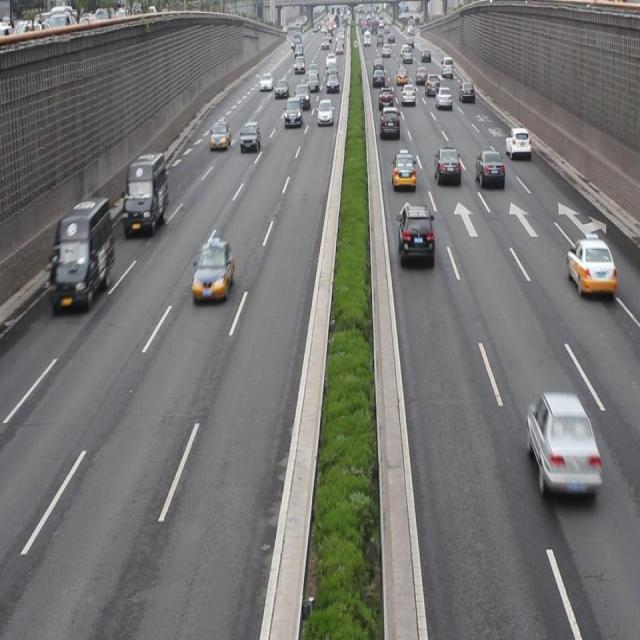car: (526, 390, 601, 495), (564, 236, 614, 296), (191, 240, 235, 298), (397, 202, 435, 266), (434, 144, 462, 188), (475, 147, 505, 188), (391, 150, 415, 191), (504, 126, 531, 158), (240, 120, 261, 154), (210, 118, 231, 150), (283, 96, 302, 128), (316, 97, 333, 125)
truck: (51, 196, 113, 308), (121, 151, 168, 237), (378, 104, 400, 138)
